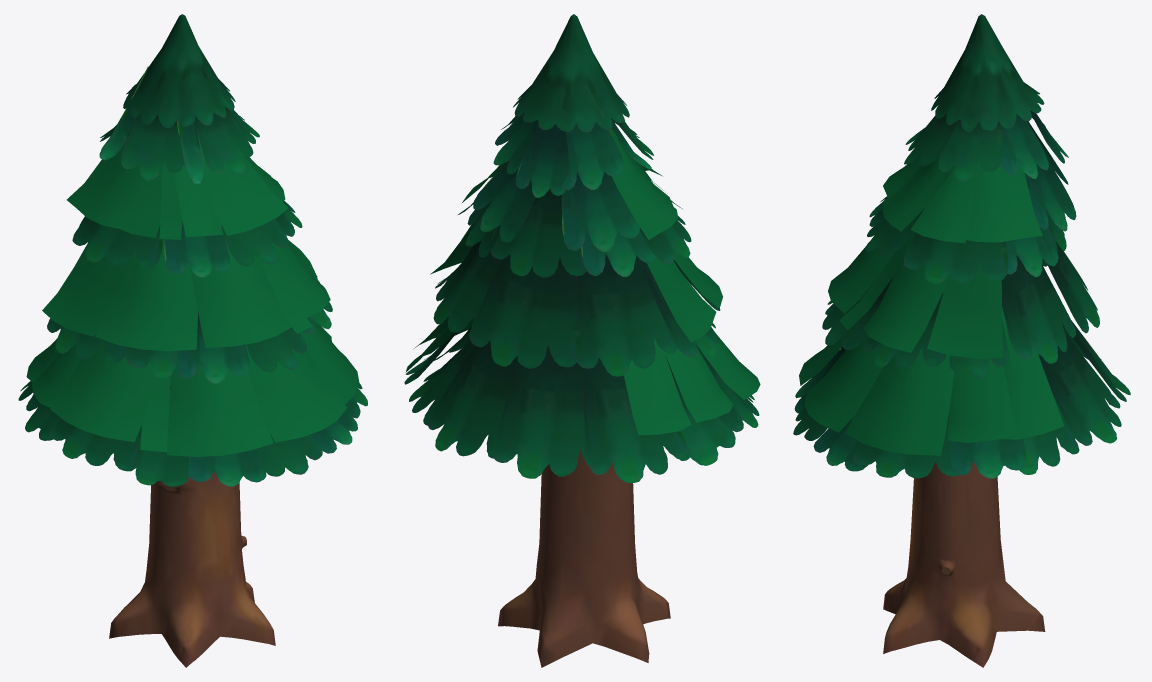
Rendered from cedar.glb.
The picture shows the model from 3 angles, left to right: view 1: azimuth 30°, elevation 25°; view 2: azimuth 150°, elevation 25°; view 3: azimuth 270°, elevation 25°; orthographic projection. The views are drawn at different scales.
Size of the model in its own units: 21.64 by 40.56 by 20.61.
Materials: 3 (2 with a texture image).
